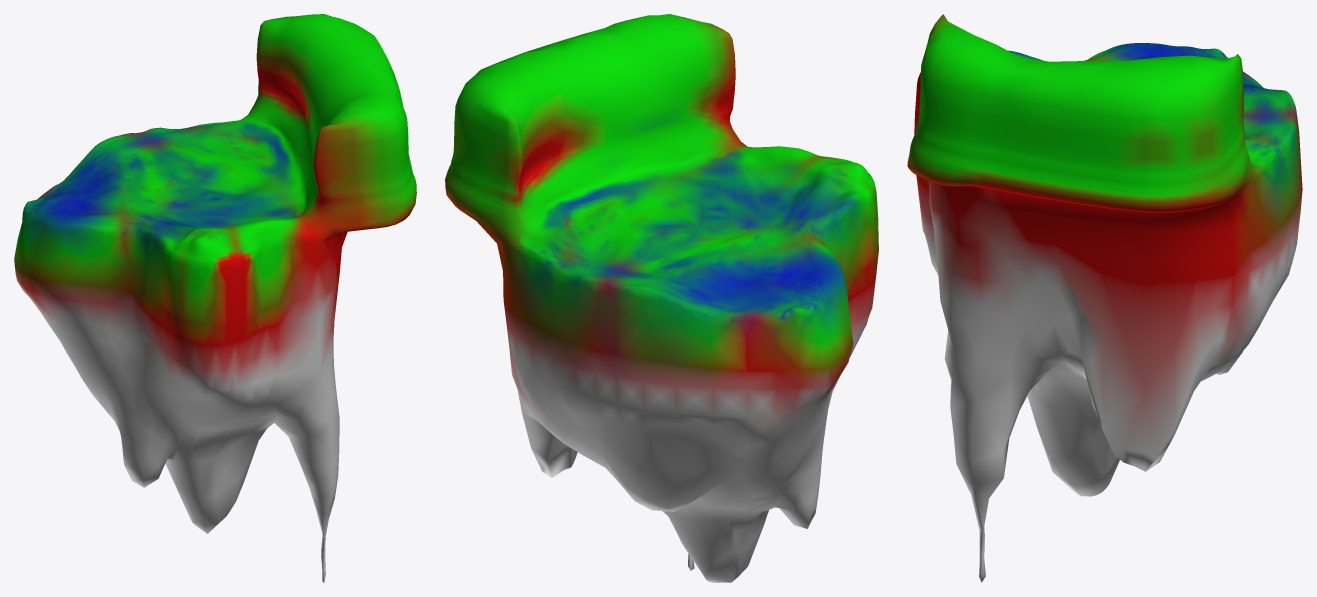
The model's file is HG_Q2_OuterRing_Terrain_002.fbx.
3 views of the same model, side by side, from view 1: azimuth 30°, elevation 25°; view 2: azimuth 150°, elevation 25°; view 3: azimuth 270°, elevation 25° (orthographic). The views are drawn at different scales.
Parts seen in each view (by area): view 1: HG_Q2_OuterRing_Terrain_002; view 2: HG_Q2_OuterRing_Terrain_002; view 3: HG_Q2_OuterRing_Terrain_002.
Boxes of the visible parts, left/top/right/bottom form: HG_Q2_OuterRing_Terrain_002: left=14, top=14, right=416, bottom=582; HG_Q2_OuterRing_Terrain_002: left=445, top=14, right=878, bottom=582; HG_Q2_OuterRing_Terrain_002: left=907, top=14, right=1302, bottom=582.
Size of the model in its own units: 210 by 274 by 173.
